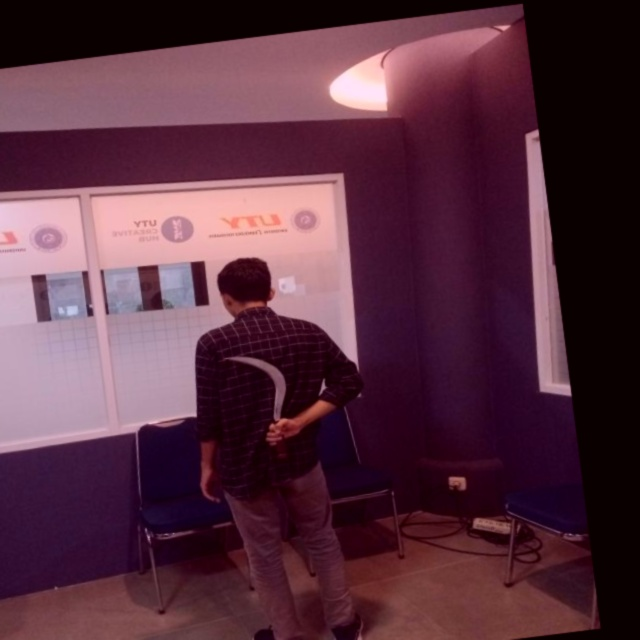Sharp-Object: (214, 340, 305, 466)
